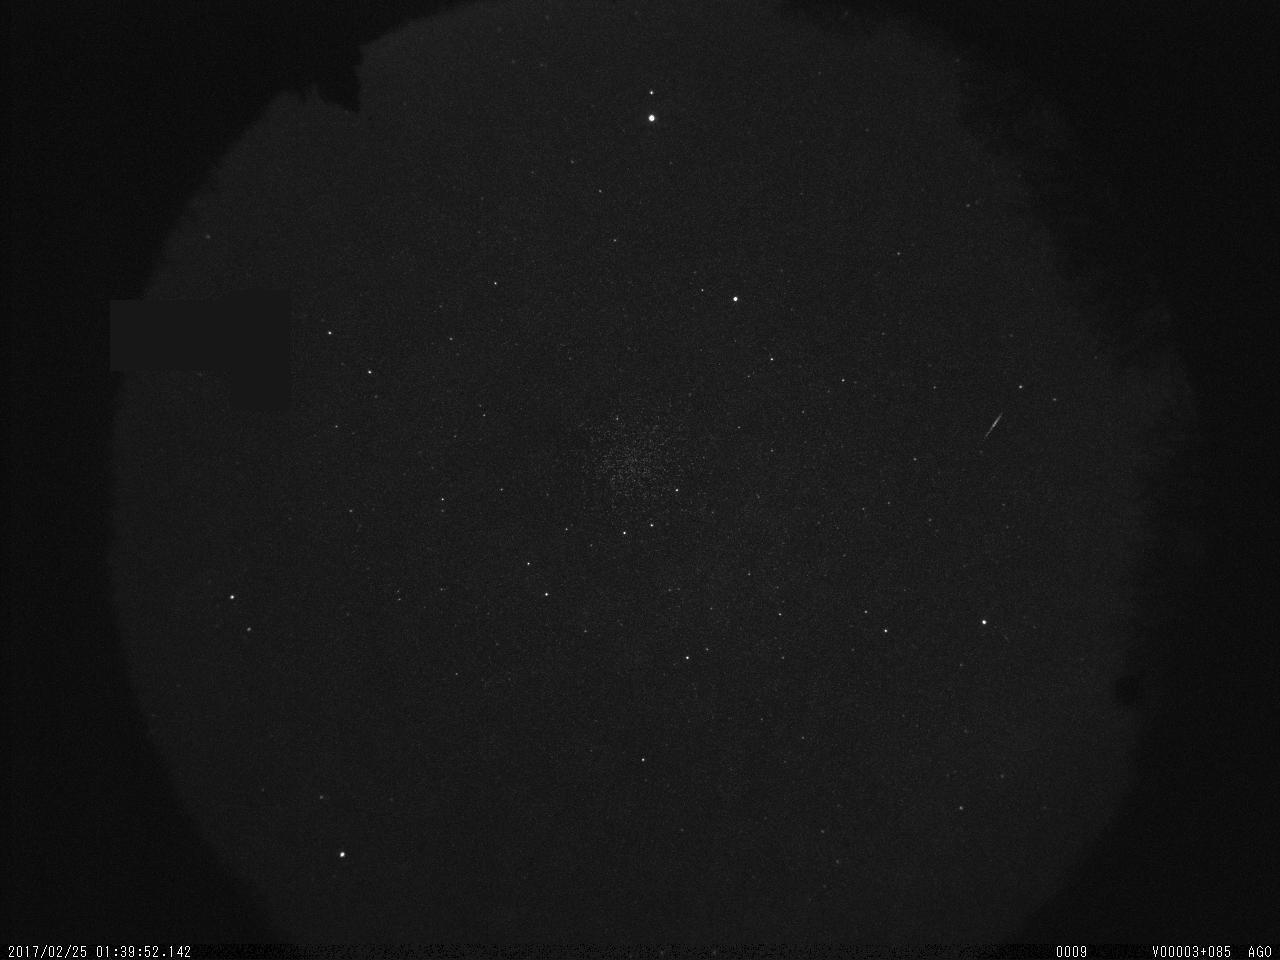Meteor: (978, 405, 1011, 449)
